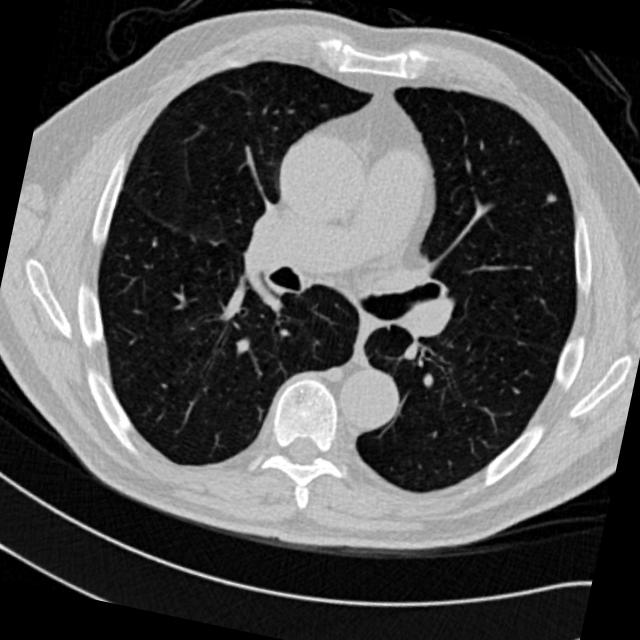nodule: (537, 183, 563, 209)
